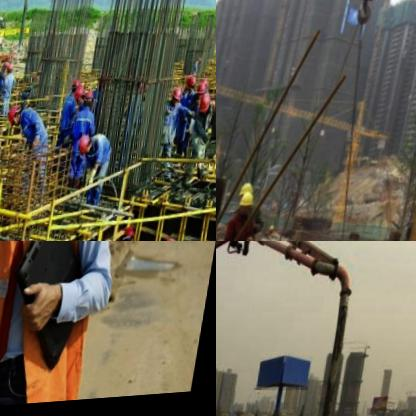helmet: (8, 101, 28, 131), (241, 192, 261, 218), (79, 135, 98, 159), (170, 87, 186, 114), (198, 95, 215, 120), (75, 86, 90, 110), (125, 228, 141, 241)
